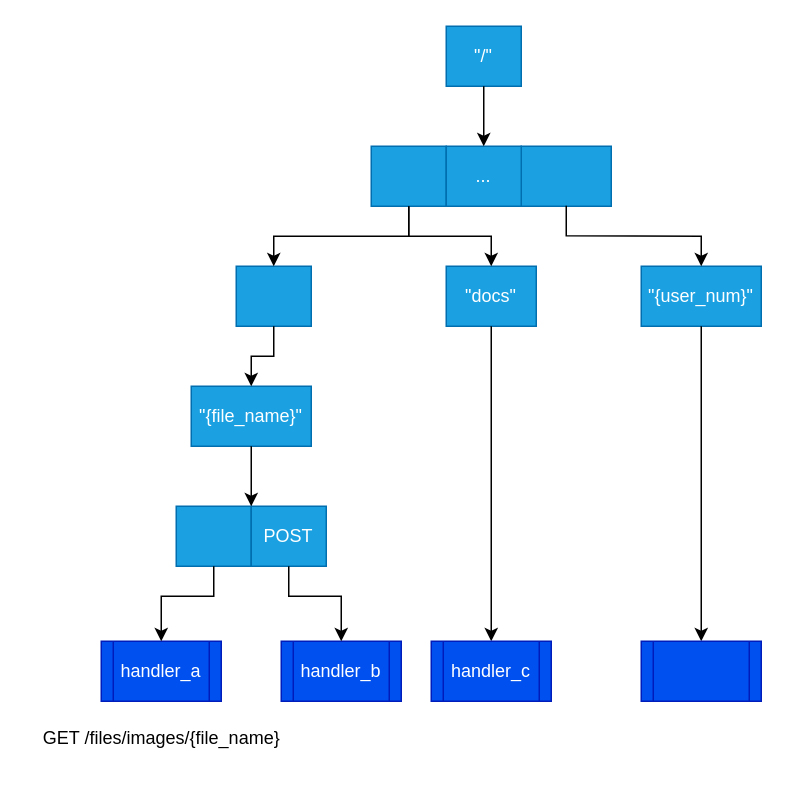
Some shapes in this 788 by 788 pixel diagram are drawn without their labels. The centre of each missing label's shape, as x and y in pixels:
"files": pixel 408 175
"images": pixel 273 295
"users": pixel 565 175
GET: pixel 213 535
handler_d: pixel 700 670
